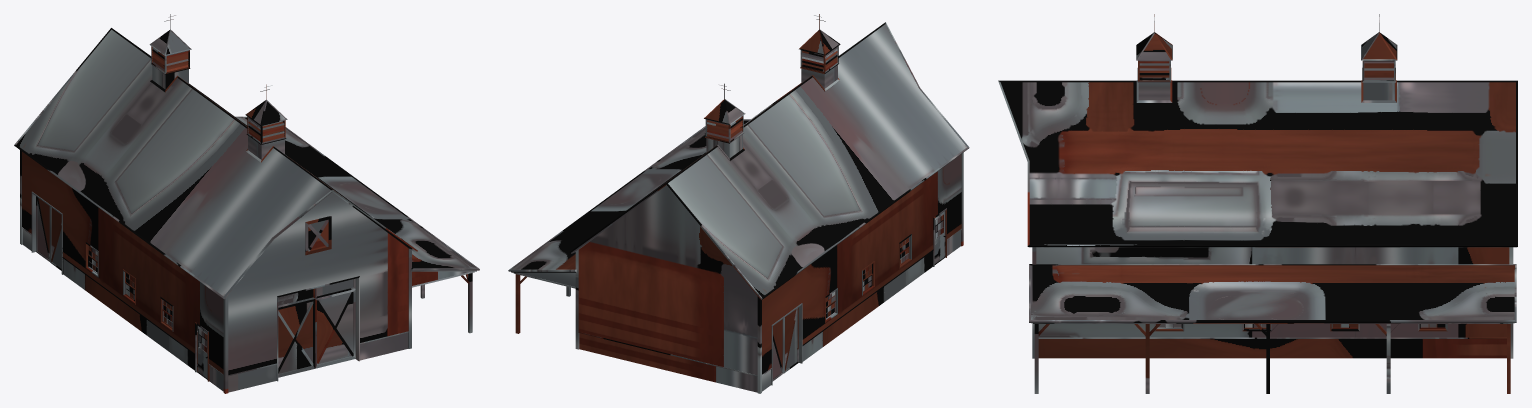
3 renders of one model, left to right at view 1: azimuth 30°, elevation 25°; view 2: azimuth 150°, elevation 25°; view 3: azimuth 270°, elevation 25°, orthographic. The views are drawn at different scales.
Parts seen in each view (by area): view 1: IBuilding10, IB10Gates, IB10Cover, TopVent1, TopVent002, IB10corners, VentGrids002, VentGrids1; view 2: IBuilding10, IB10Cover, TopVent1, TopVent002, IB10corners, VentGrids1, VentGrids002, IB10Slabs; view 3: IBuilding10, IB10Cover, TopVent1, TopVent002, IB10Slabs, VentGrids1, VentGrids002.
Boxes of the visible parts, bbox=[...] form: IBuilding10: bbox=[14, 28, 417, 392]; IB10Gates: bbox=[278, 278, 355, 377]; IB10Cover: bbox=[235, 116, 479, 287]; TopVent1: bbox=[245, 99, 287, 162]; TopVent002: bbox=[149, 29, 191, 92]; IB10corners: bbox=[20, 150, 411, 393]; VentGrids002: bbox=[152, 47, 188, 71]; VentGrids1: bbox=[248, 118, 284, 142]; IBuilding10: bbox=[569, 22, 969, 392]; IB10Cover: bbox=[508, 119, 750, 288]; TopVent1: bbox=[799, 29, 840, 91]; TopVent002: bbox=[704, 99, 745, 160]; IB10corners: bbox=[575, 152, 963, 393]; VentGrids1: bbox=[802, 47, 837, 71]; VentGrids002: bbox=[707, 117, 742, 140]; IB10Slabs: bbox=[515, 274, 570, 333]; IBuilding10: bbox=[998, 80, 1517, 358]; IB10Cover: bbox=[1029, 264, 1516, 323]; TopVent1: bbox=[1136, 32, 1172, 102]; TopVent002: bbox=[1361, 32, 1397, 102]; IB10Slabs: bbox=[1034, 324, 1510, 393]; VentGrids1: bbox=[1139, 61, 1169, 79]; VentGrids002: bbox=[1364, 61, 1393, 79].
Size of the model in its own units: 1732 by 1601 by 2589.
